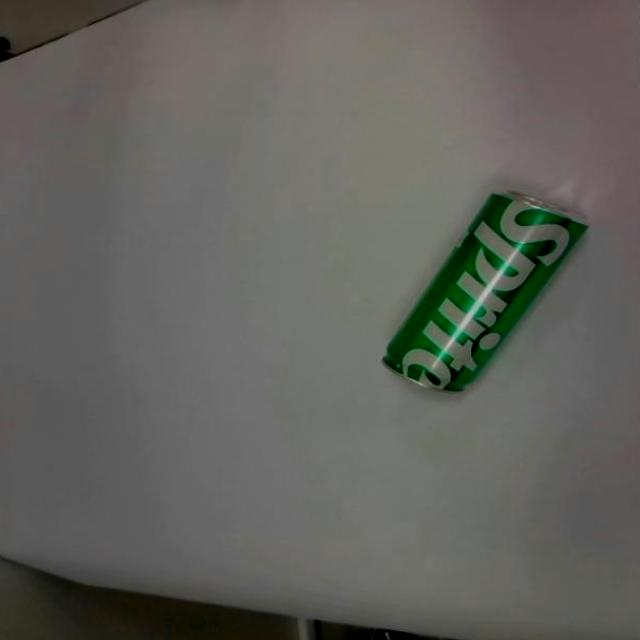debris: (376, 186, 590, 394)
